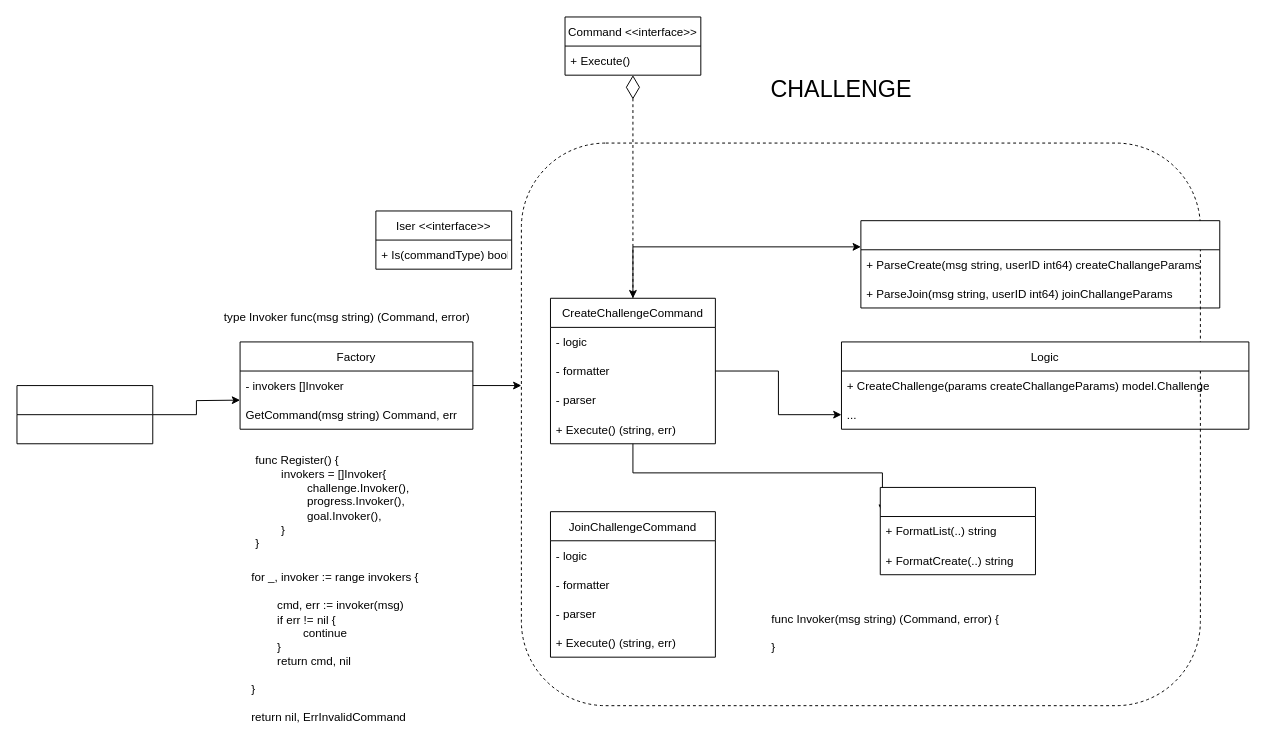
Image size: 1266x742. Some labels were removed from this diagram. The box of each missing label's shape, as (x1, y1, x2, y2) in pixels:
Bot: (16, 385, 153, 444)
Formatter: (879, 486, 1035, 575)
Parser: (860, 220, 1220, 308)
